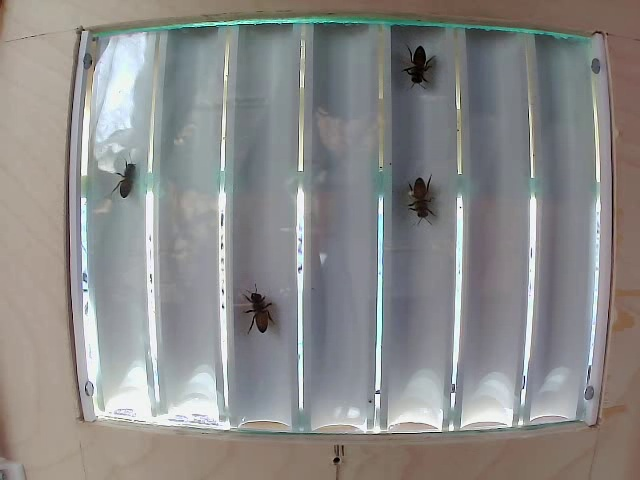bee: (102, 151, 151, 213), (245, 275, 280, 345), (398, 176, 434, 219), (403, 46, 430, 93)
